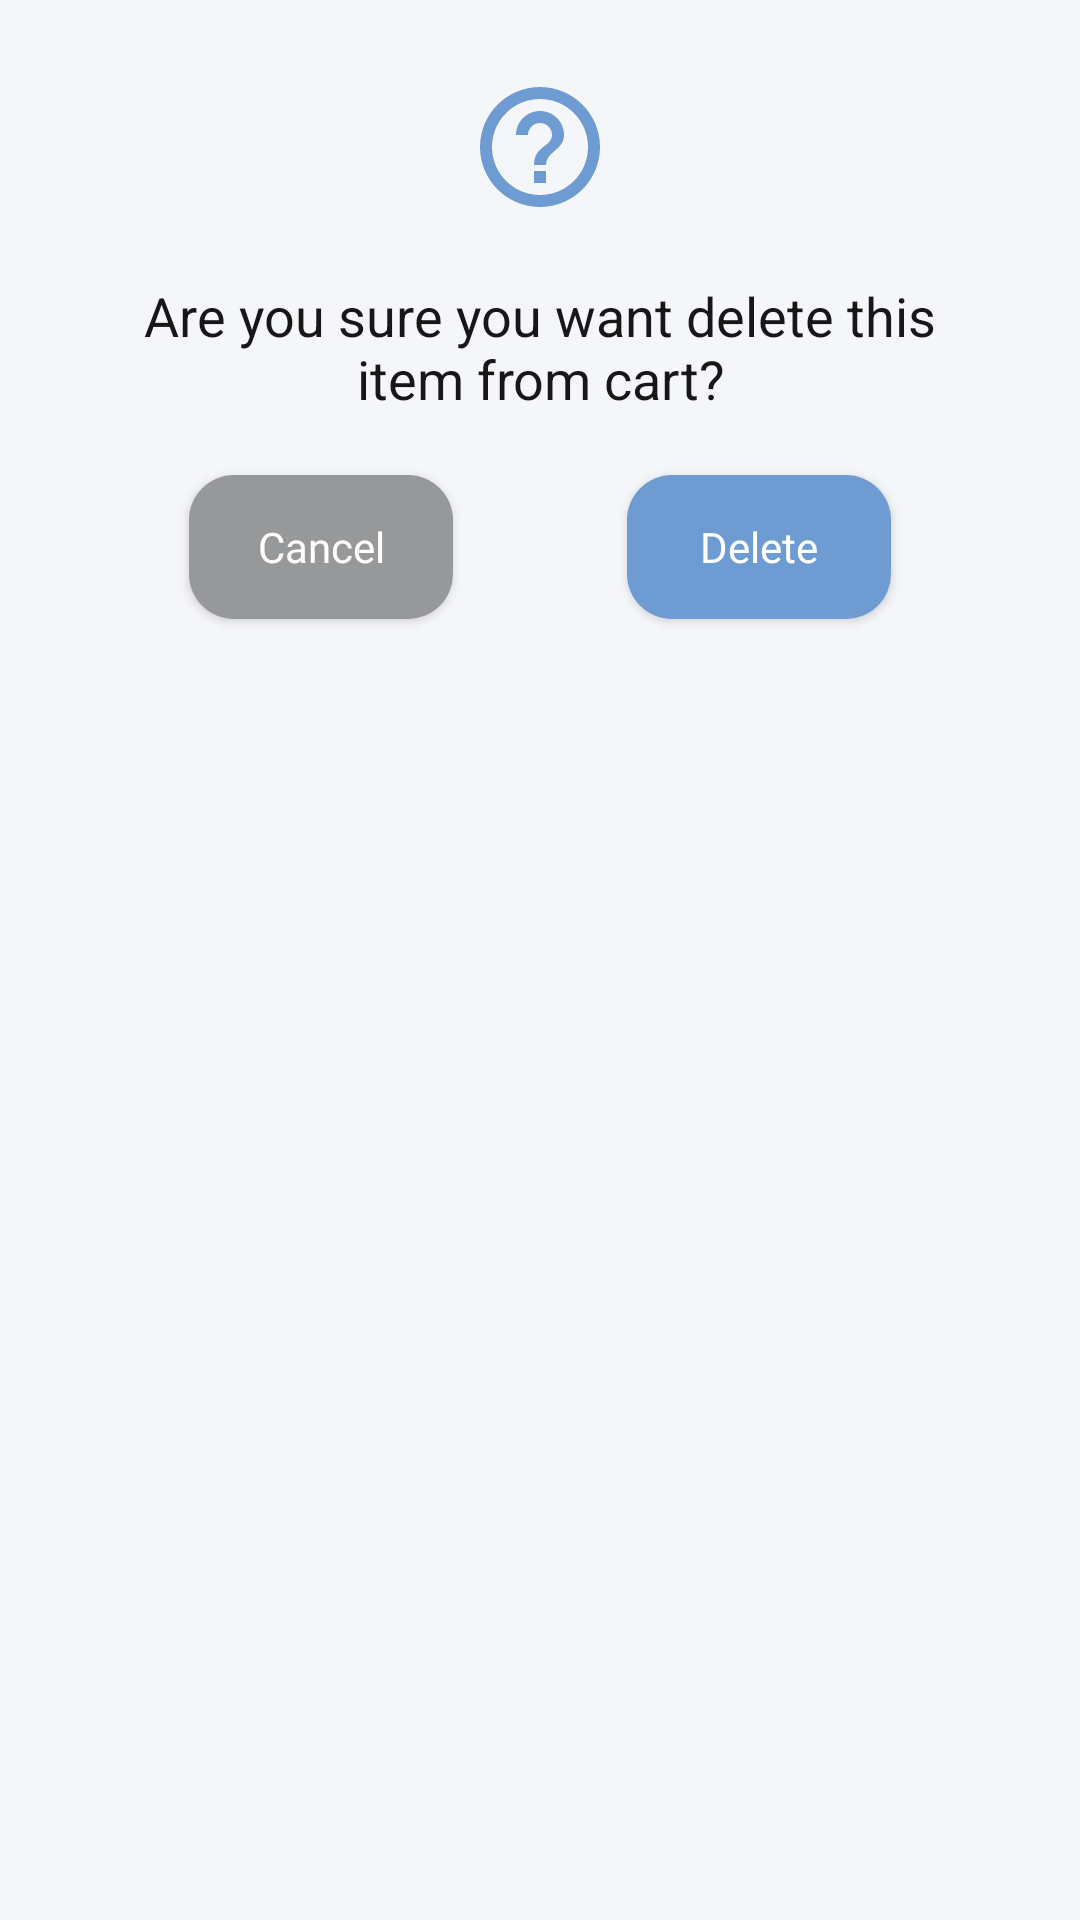

Screen size 1080px x 1920px. Icon name, then its box in pixels as (x1, y1, x2, y2):
help: (480, 87, 600, 207)
